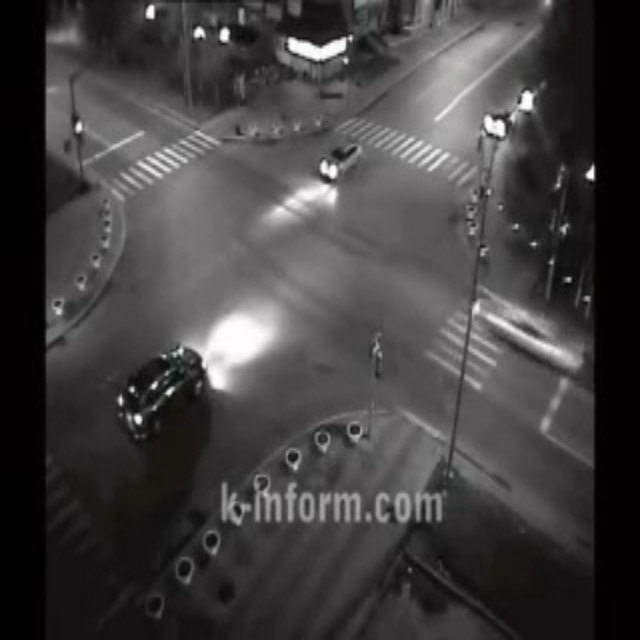acc: (456, 278, 586, 389)
